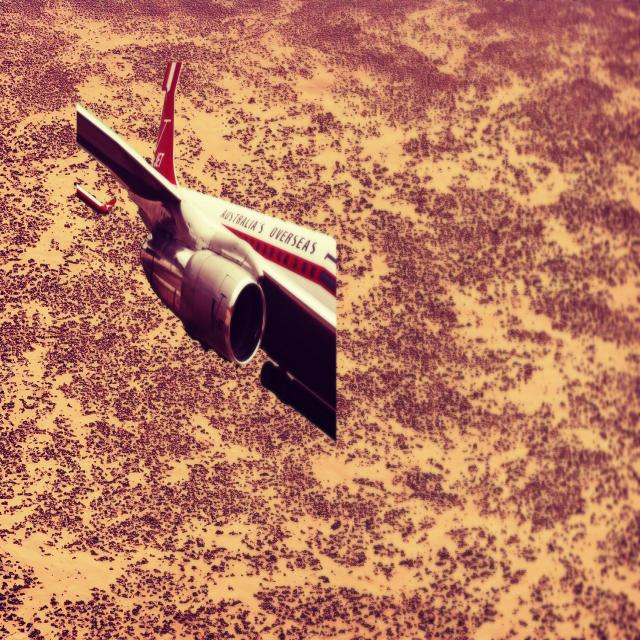airplane: (74, 58, 338, 441)
